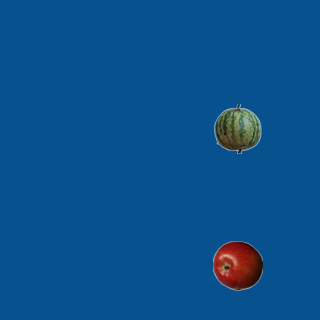Apple Braeburn: (212, 240, 262, 290)
Watermelon: (212, 103, 262, 153)
